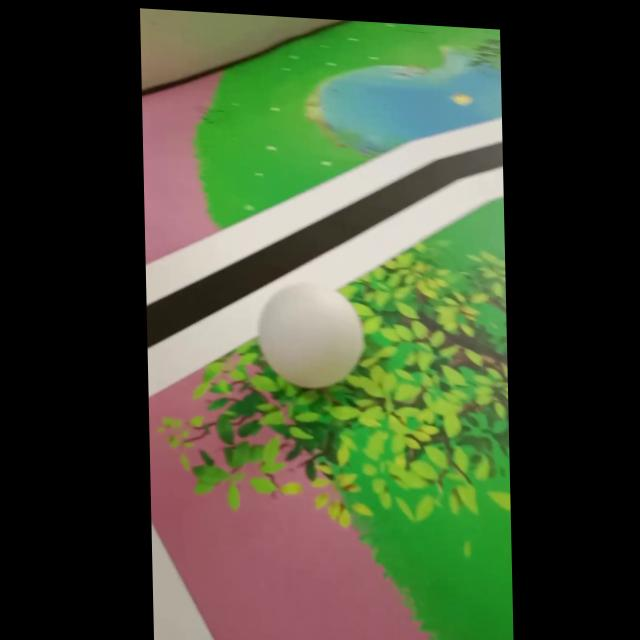white ball: (256, 278, 366, 392)
